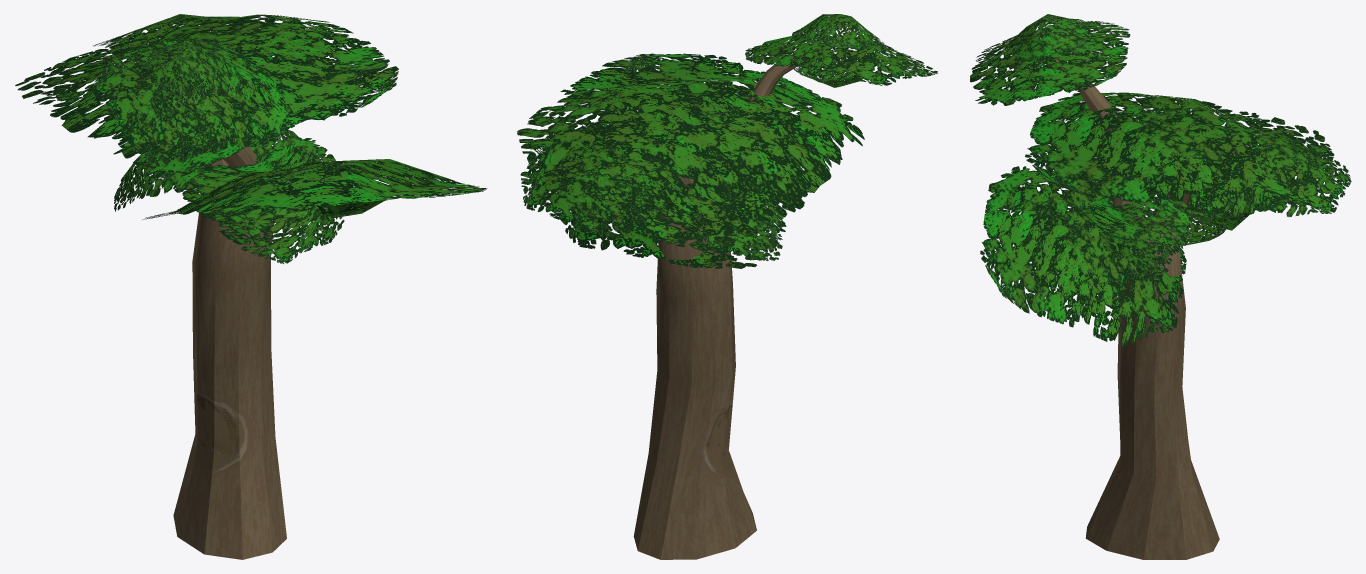
The model's file is m_treeveg.fbx.
3 renders of one model, left to right at view 1: azimuth 30°, elevation 25°; view 2: azimuth 150°, elevation 25°; view 3: azimuth 270°, elevation 25°, orthographic. The views are drawn at different scales.
Parts seen in each view (by area): view 1: leaves17; view 2: leaves17; view 3: leaves17.
Part boxes in pixels (box(x1,y1,x2,y2)): leaves17: box(15, 14, 487, 559); leaves17: box(517, 14, 937, 559); leaves17: box(970, 14, 1351, 559).
Size of the model in its own units: 11.65 by 16.52 by 11.93.
Materials: 1 (1 with a texture image).
